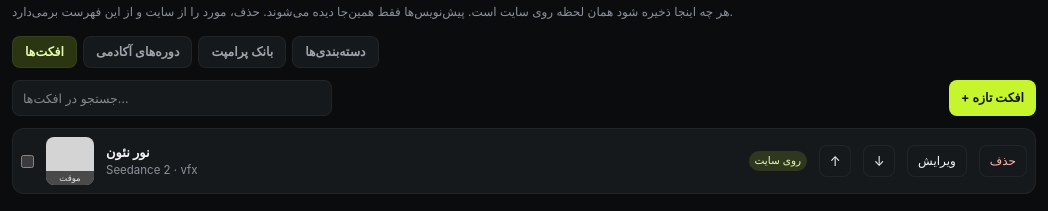
Test: the content section › searches the list
Expected: the text "نور نئون" is shown, [106,144,150,160]
Type "باران" into the search field.
click(172, 98); type("باران")  # box [12,80,332,116]
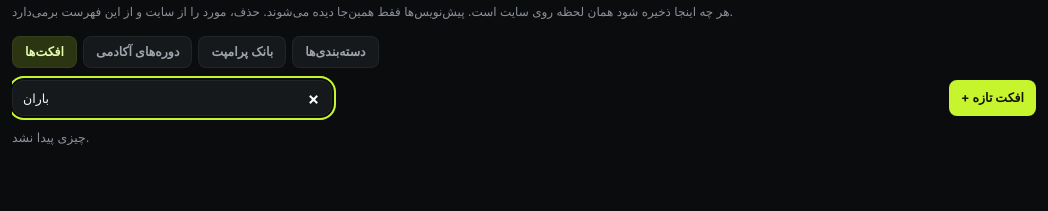
Now the text "نور نئون" is gone
Now the text "چیزی پیدا نشد." is shown, box [12,130,89,145]
